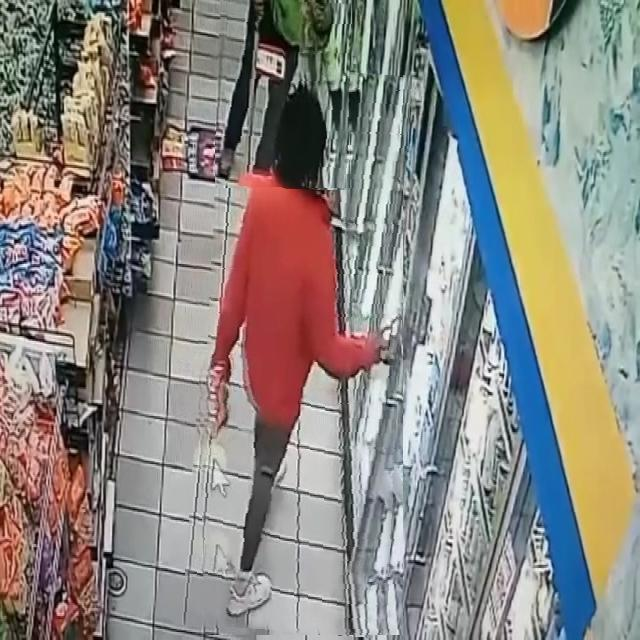normal: (192, 65, 403, 635), (215, 0, 350, 188)
